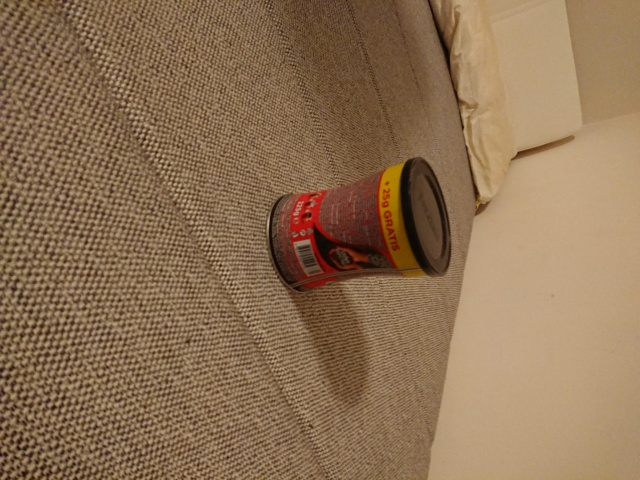Nescafe Classic 225g: (263, 153, 456, 296)
